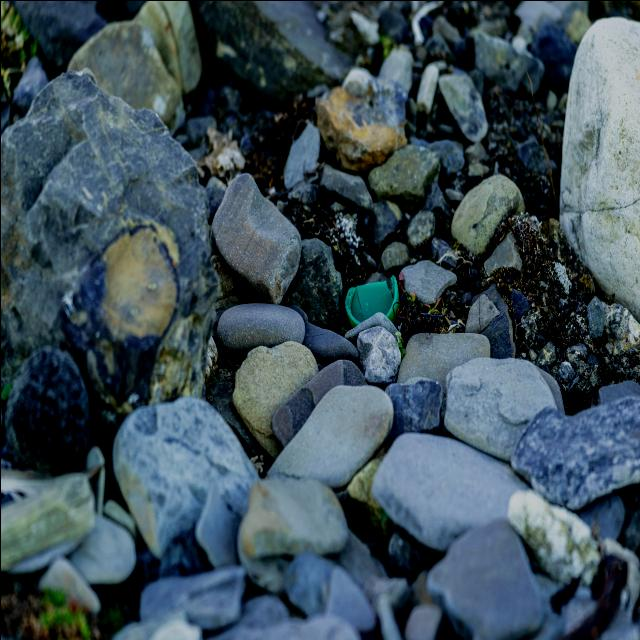Plastic bottle cap: (344, 274, 399, 328)
